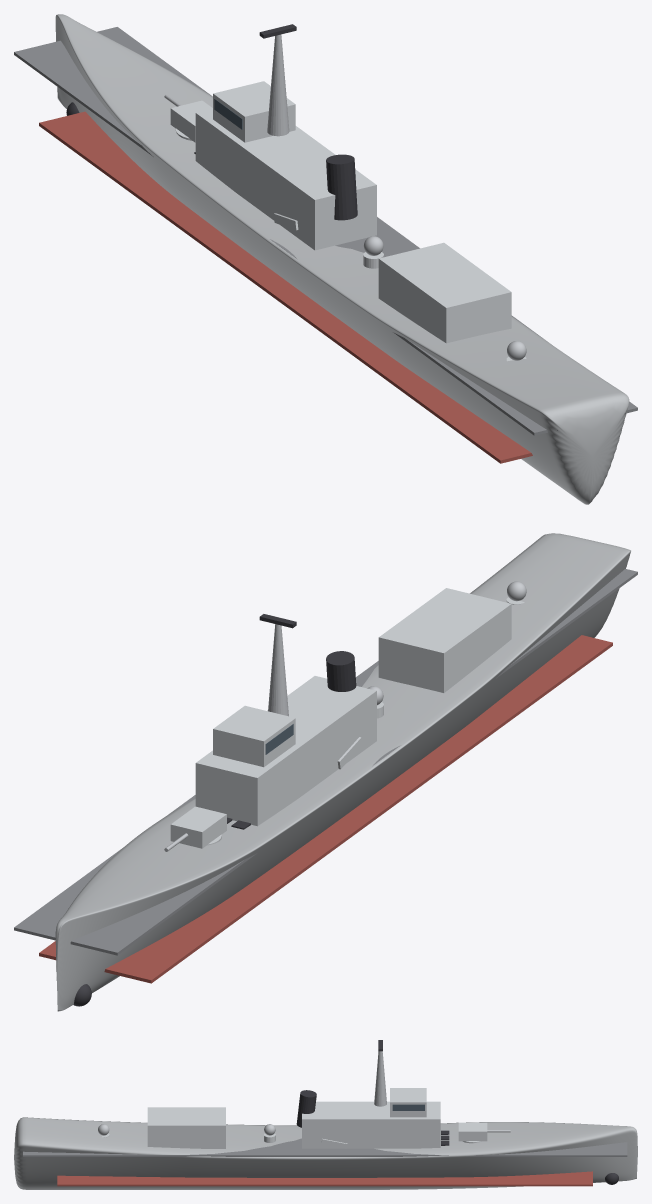
The model's file is ws-frigate-01.fbx.
The picture shows the model from 3 angles, top to bottom: view 1: azimuth 30°, elevation 25°; view 2: azimuth 150°, elevation 25°; view 3: azimuth 270°, elevation 25°; orthographic projection. The views are drawn at different scales.
Visible parts, largest first — view 1: ws-frigate-01, waterline-belt, deckhouse, hangar, main-deck, bridge, funnel-1, main-mast, turret_fwd-housing; view 2: ws-frigate-01, waterline-belt, deckhouse, hangar, main-deck, bridge, turret_fwd-housing, main-mast, funnel-1; view 3: ws-frigate-01, deckhouse, waterline-belt, main-deck, hangar, bridge, turret_fwd-housing, main-mast, funnel-1.
Boxes of the visible parts, x1,y1,x2,y2 form: ws-frigate-01: [55, 14, 629, 504]; waterline-belt: [39, 111, 532, 463]; deckhouse: [195, 108, 376, 250]; hangar: [378, 242, 511, 343]; main-deck: [14, 27, 637, 435]; bridge: [213, 81, 295, 142]; funnel-1: [326, 154, 357, 220]; main-mast: [267, 34, 289, 136]; turret_fwd-housing: [170, 100, 212, 142]; ws-frigate-01: [55, 533, 630, 1011]; waterline-belt: [39, 635, 612, 983]; deckhouse: [195, 676, 376, 826]; hangar: [378, 588, 511, 692]; main-deck: [14, 569, 637, 955]; bridge: [213, 705, 295, 767]; turret_fwd-housing: [170, 806, 226, 848]; main-mast: [268, 624, 288, 716]; funnel-1: [326, 651, 356, 691]; ws-frigate-01: [14, 1117, 637, 1189]; deckhouse: [302, 1101, 440, 1148]; waterline-belt: [57, 1171, 592, 1186]; main-deck: [23, 1138, 627, 1156]; hangar: [147, 1107, 225, 1148]; bridge: [390, 1088, 426, 1117]; turret_fwd-housing: [458, 1122, 487, 1141]; main-mast: [374, 1051, 386, 1106]; funnel-1: [296, 1090, 316, 1127].
Size of what is drawn, in the model's own units: 16.32 by 34.71 by 135.
